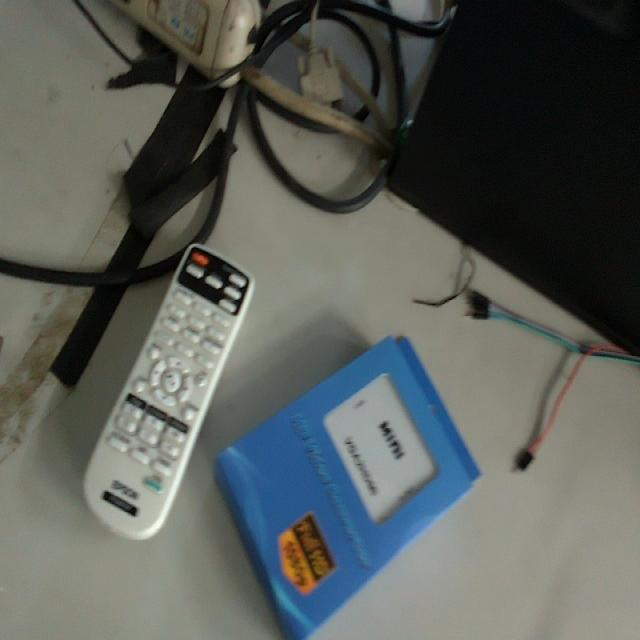remote: (219, 328, 480, 638), (86, 245, 252, 540)
